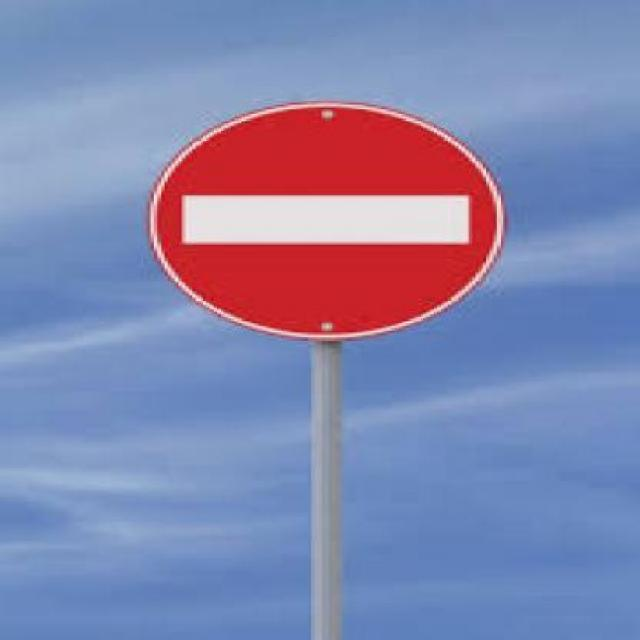Zakaz wjazdu: (139, 100, 518, 345)
